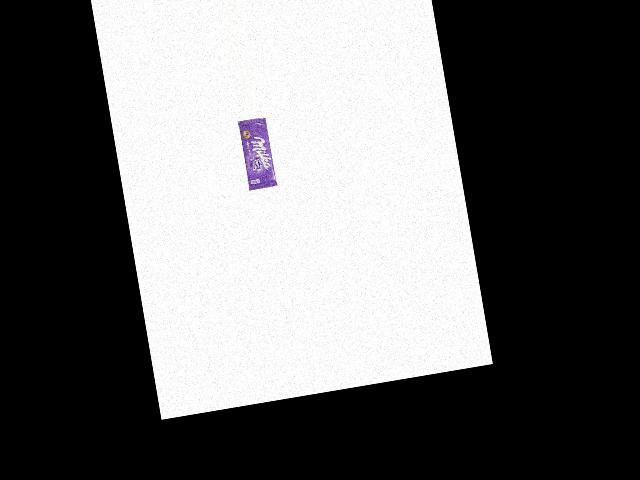chocolate: (234, 116, 279, 195)
